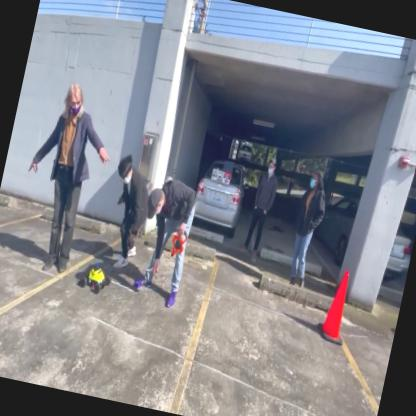cone: (314, 268, 357, 349)
mushr_car: (76, 260, 116, 296)
